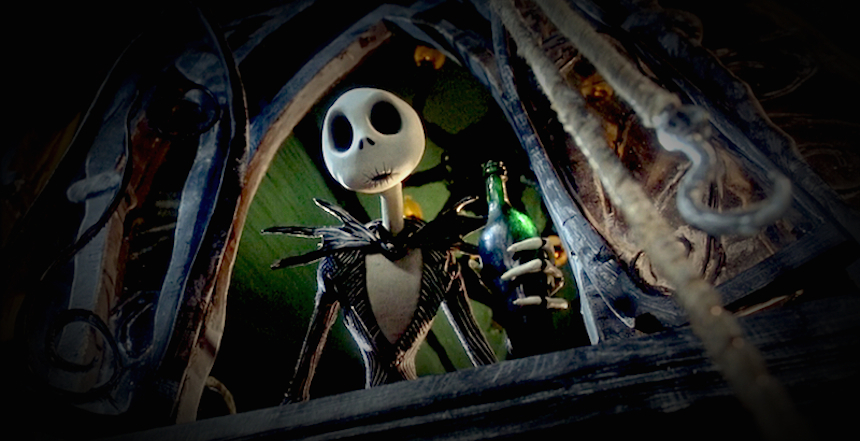Jack Skellington: (260, 88, 570, 408)
